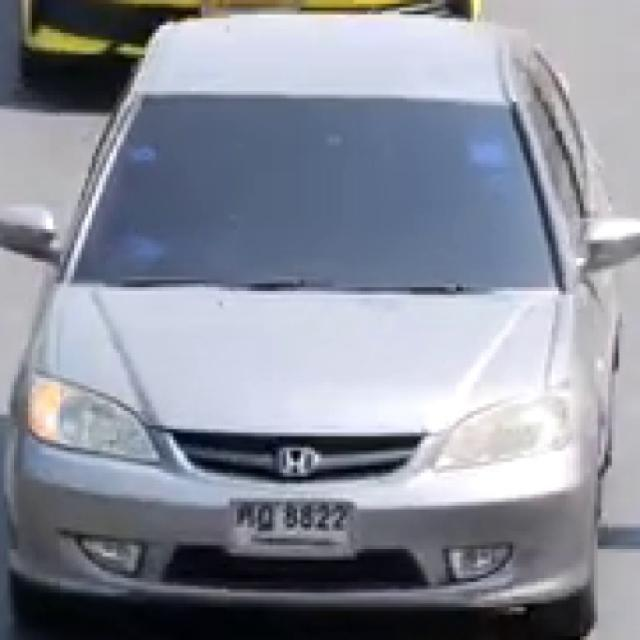plate: (230, 500, 360, 558)
